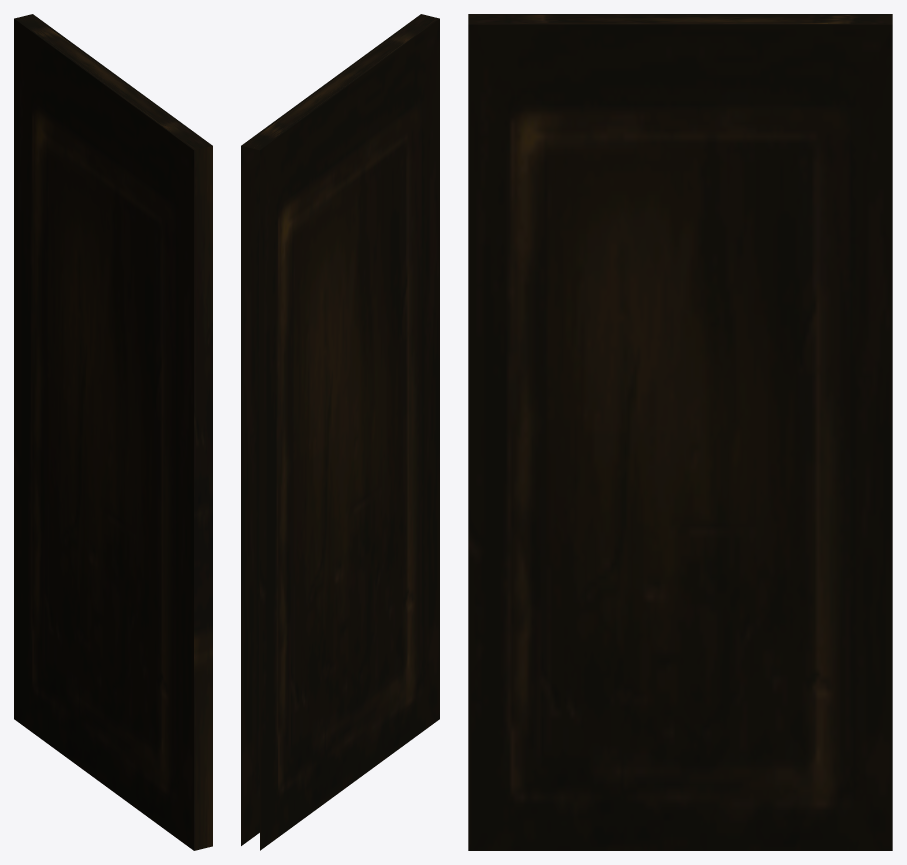
File: door.glb
The picture shows the model from 3 angles, left to right: view 1: azimuth 30°, elevation 25°; view 2: azimuth 150°, elevation 25°; view 3: azimuth 270°, elevation 25°; orthographic projection. The views are drawn at different scales.
Visible parts, largest first — view 1: unnamed.002; view 2: unnamed.002; view 3: unnamed.002.
Boxes of the visible parts, left/top/right/bottom form: unnamed.002: left=14, top=14, right=212, bottom=850; unnamed.002: left=241, top=14, right=439, bottom=850; unnamed.002: left=468, top=14, right=892, bottom=850.
Size of the model in its own units: 0.0821 by 2.93 by 1.36.
Materials: 1 (1 with a texture image).
